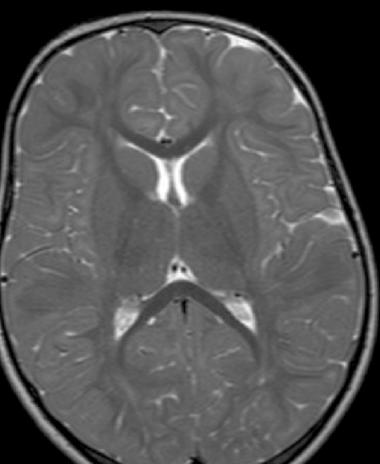Normal_Brain: (1, 5, 380, 464)
